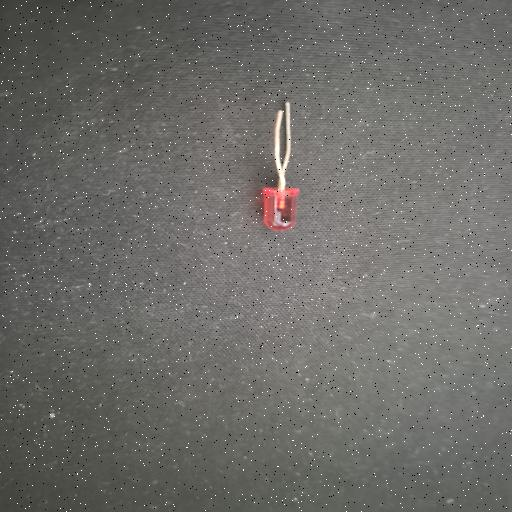led-diode: (263, 102, 299, 231)
